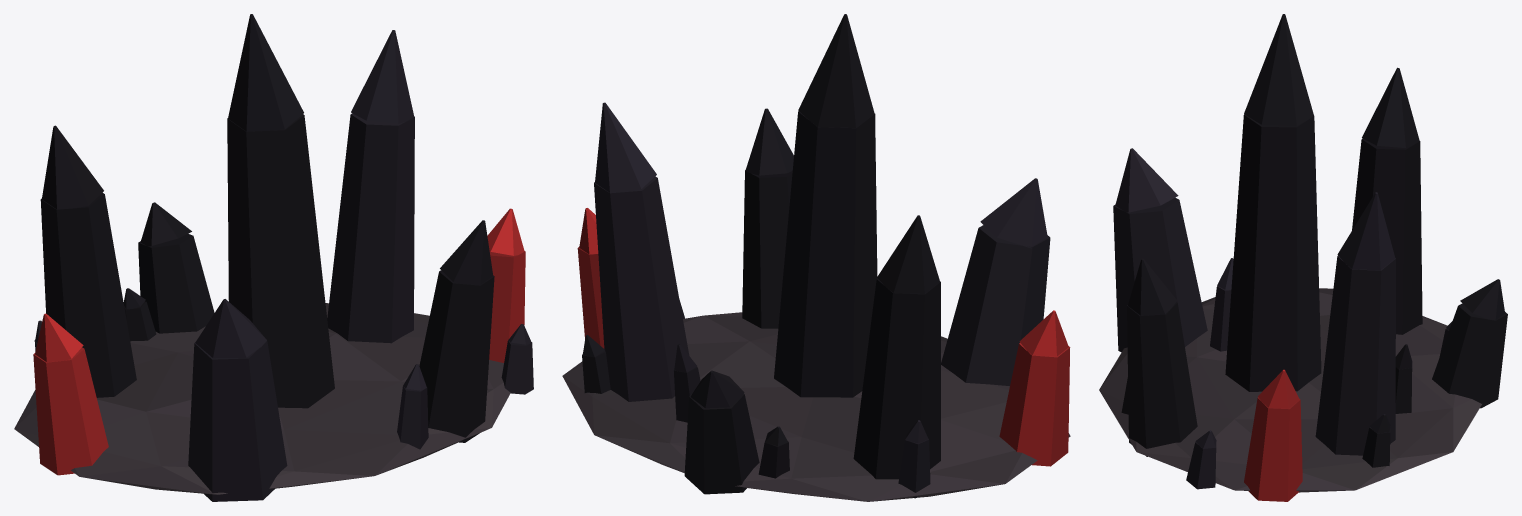
The model's file is Decor_HellGate_ObsidianShards.fbx.
The picture shows the model from 3 angles, left to right: view 1: azimuth 30°, elevation 25°; view 2: azimuth 150°, elevation 25°; view 3: azimuth 270°, elevation 25°; orthographic projection. The views are drawn at different scales.
Visible parts, largest first — view 1: ObsidianShards_Body; view 2: ObsidianShards_Body; view 3: ObsidianShards_Body.
Part boxes in pixels (x1,y1,x2,y2): ObsidianShards_Body: (14, 14, 533, 501); ObsidianShards_Body: (562, 14, 1070, 501); ObsidianShards_Body: (1099, 14, 1507, 501).
Size of the model in its own units: 20.33 by 16.72 by 16.16.
